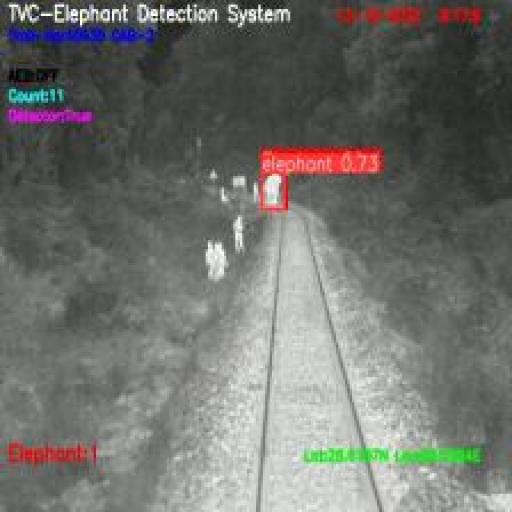Elephant: (263, 174, 286, 210)
